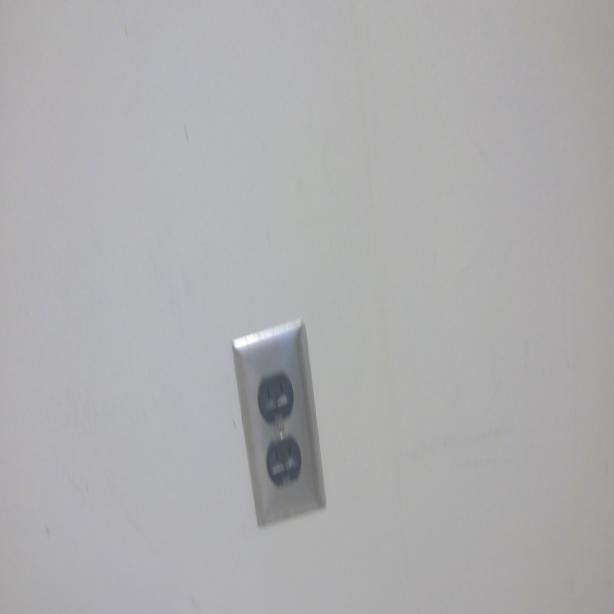typeb: (259, 372, 294, 419), (264, 439, 300, 483)
